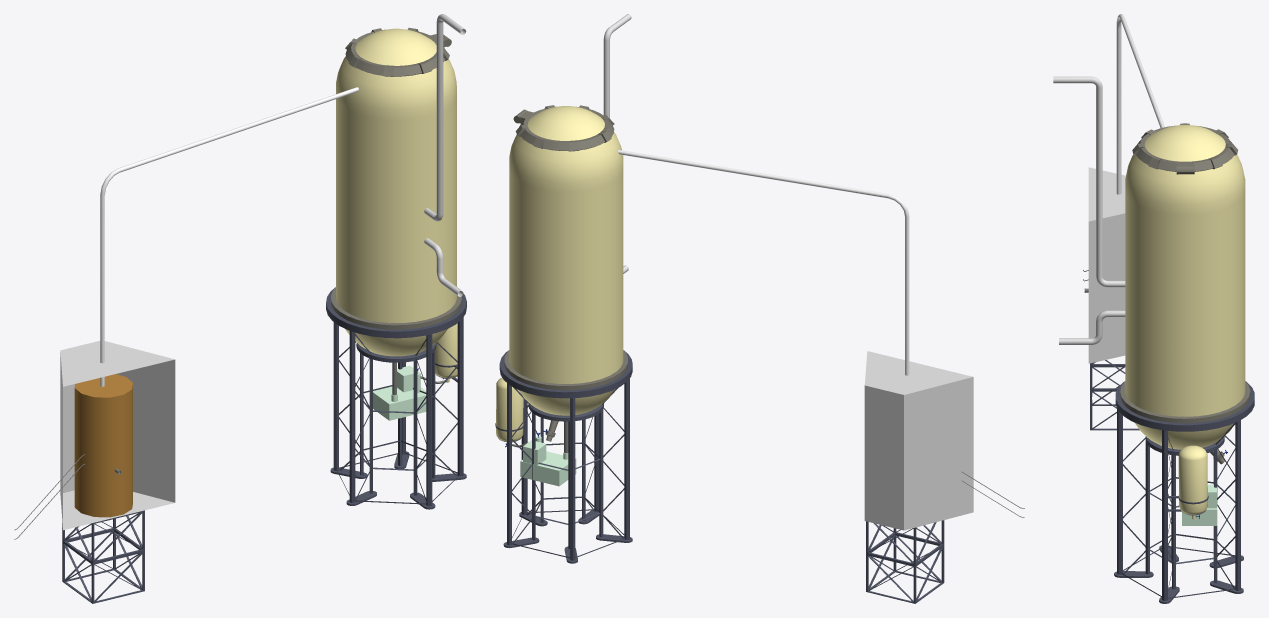
File: LOD_Test_MoltenSoilReactor.glb
The picture shows the model from 3 angles, left to right: view 1: azimuth 30°, elevation 25°; view 2: azimuth 150°, elevation 25°; view 3: azimuth 270°, elevation 25°; orthographic projection. The views are drawn at different scales.
Visible parts, largest first — view 1: MSReactorTank_LOD0, MSReactor-Parts_LOD0, WaterTank_M; view 2: MSReactor-Parts_LOD0, MSReactorTank_LOD0; view 3: MSReactorTank_LOD0, MSReactor-Parts_LOD0.
Boxes of the visible parts, left/top/right/bottom form: MSReactorTank_LOD0: left=331, top=27, right=461, bottom=356; MSReactor-Parts_LOD0: left=14, top=14, right=466, bottom=603; WaterTank_M: left=74, top=374, right=132, bottom=517; MSReactor-Parts_LOD0: left=495, top=14, right=1024, bottom=603; MSReactorTank_LOD0: left=504, top=105, right=627, bottom=441; MSReactorTank_LOD0: left=1120, top=123, right=1250, bottom=464; MSReactor-Parts_LOD0: left=1053, top=14, right=1254, bottom=603.
Size of what is drawn, in the model's own units: 45.21 by 43.32 by 15.84.
